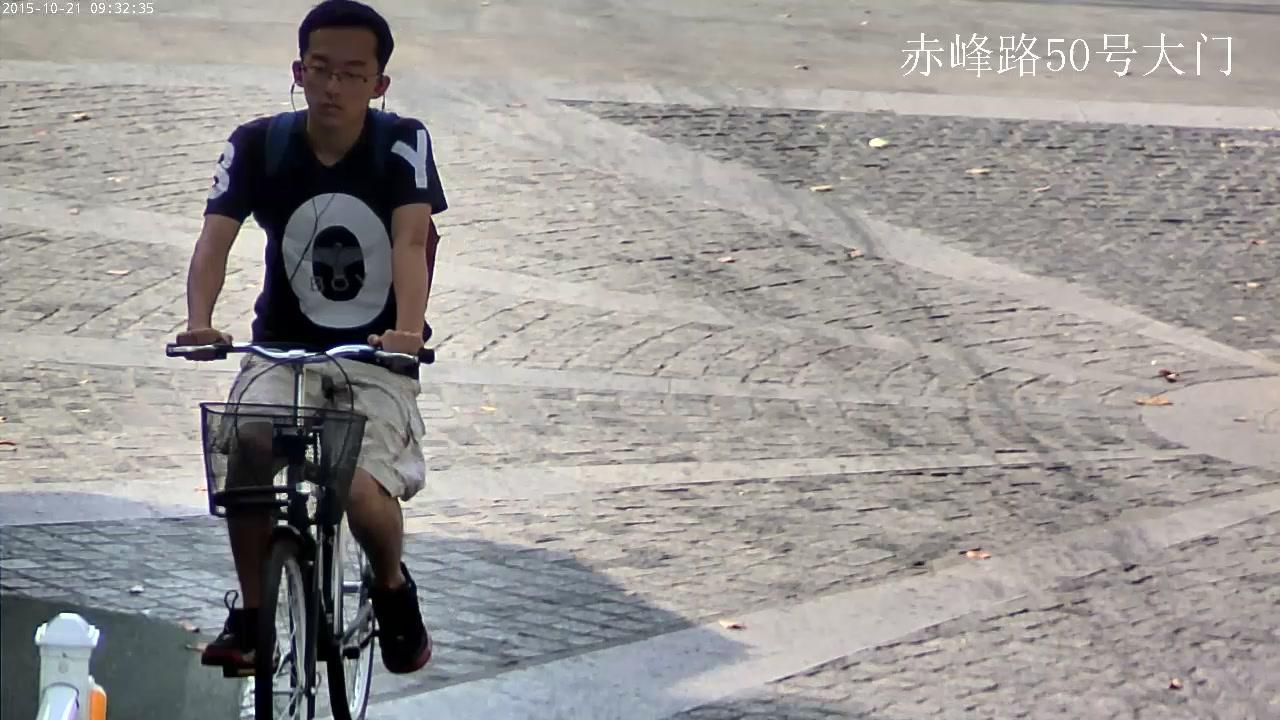person: (166, 0, 449, 720), (176, 0, 448, 675)
